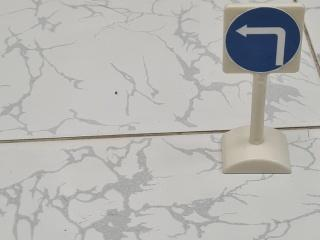left: (222, 3, 303, 77)
